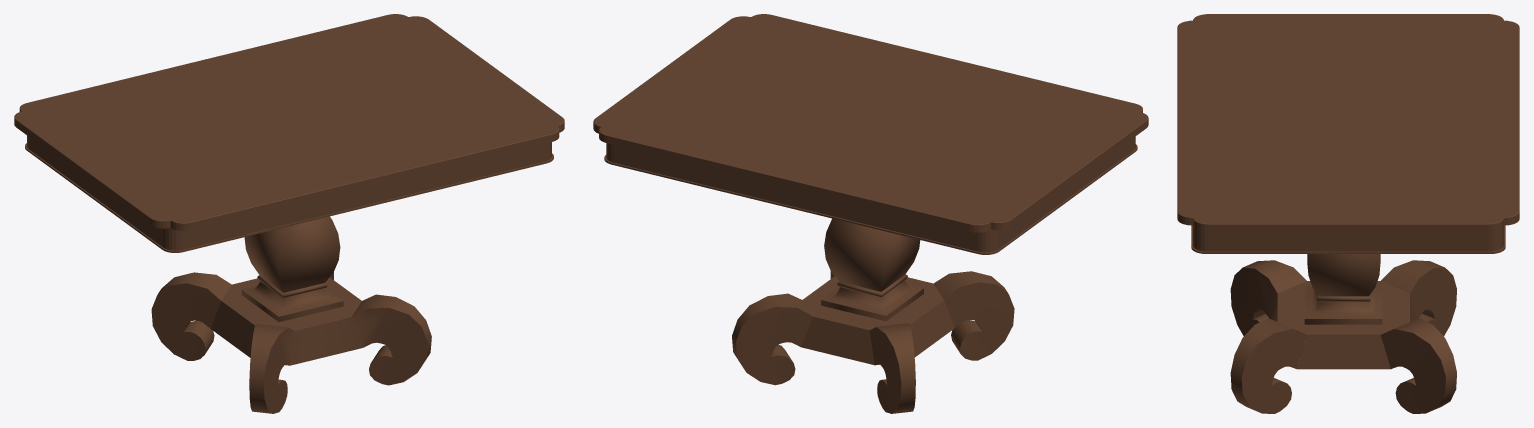
File: Table2fbx.FBX
3 views of the same model, side by side, from view 1: azimuth 30°, elevation 25°; view 2: azimuth 150°, elevation 25°; view 3: azimuth 270°, elevation 25° (orthographic). The views are drawn at different scales.
Visible parts, largest first — view 1: table-furn; view 2: table-furn; view 3: table-furn.
Boxes of the visible parts, x1,y1,x2,y2 form: table-furn: (14,14,564,413); table-furn: (593,14,1148,413); table-furn: (1177,14,1519,413).
Bounding box in the file's own units: 81.28 × 46.62 × 55.88.
